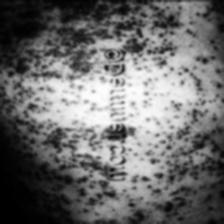Non-Cancerous Skin Condition: (0, 0, 102, 224), (140, 106, 224, 224), (129, 0, 189, 90)
